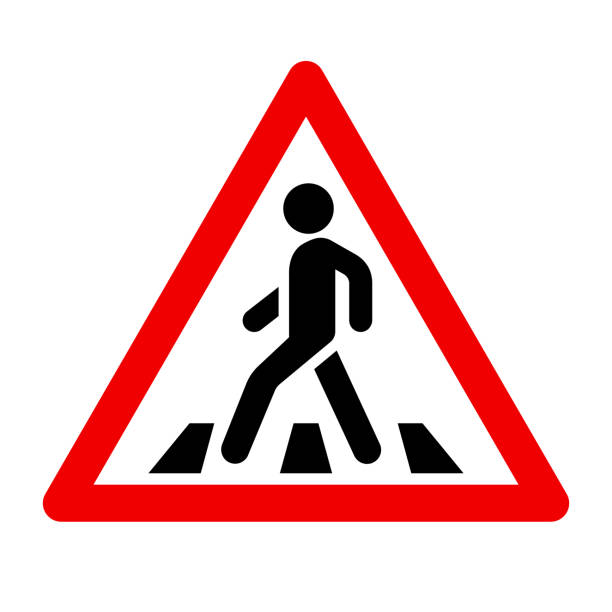yaya_gecidi: (40, 59, 576, 530)
